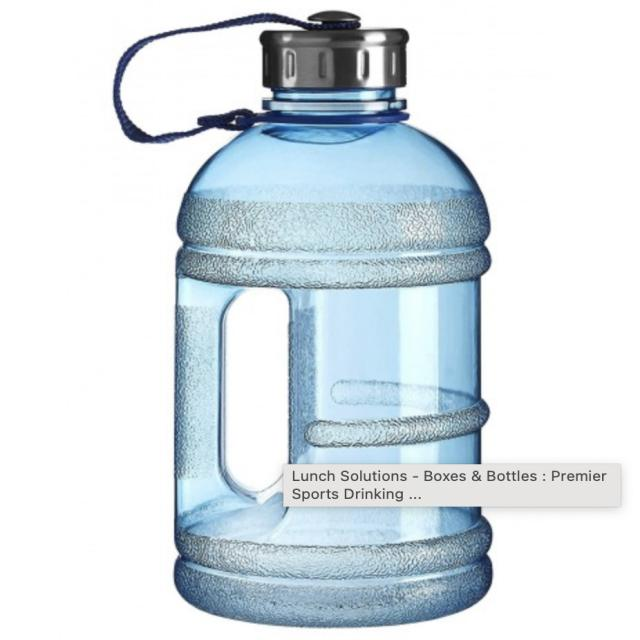recyclable: (100, 1, 553, 636)
